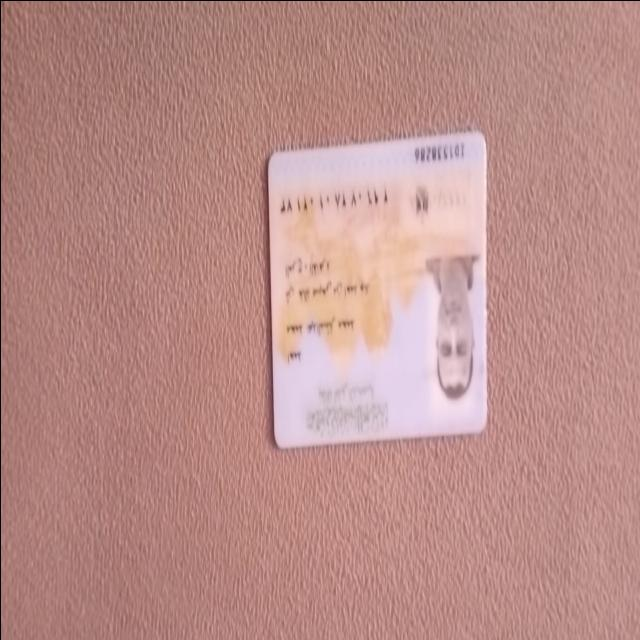id_card: (261, 117, 492, 462)
